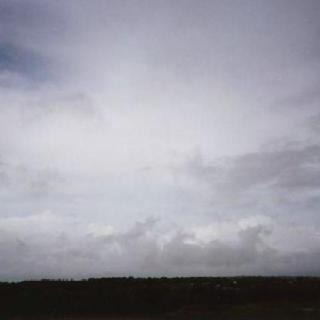Nimbostratus: (0, 0, 320, 276)
